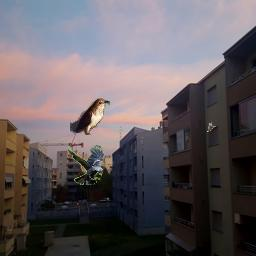Crow: (67, 145, 104, 185)
Cuckoo: (70, 98, 110, 135)
Sparrow: (207, 122, 217, 132)
